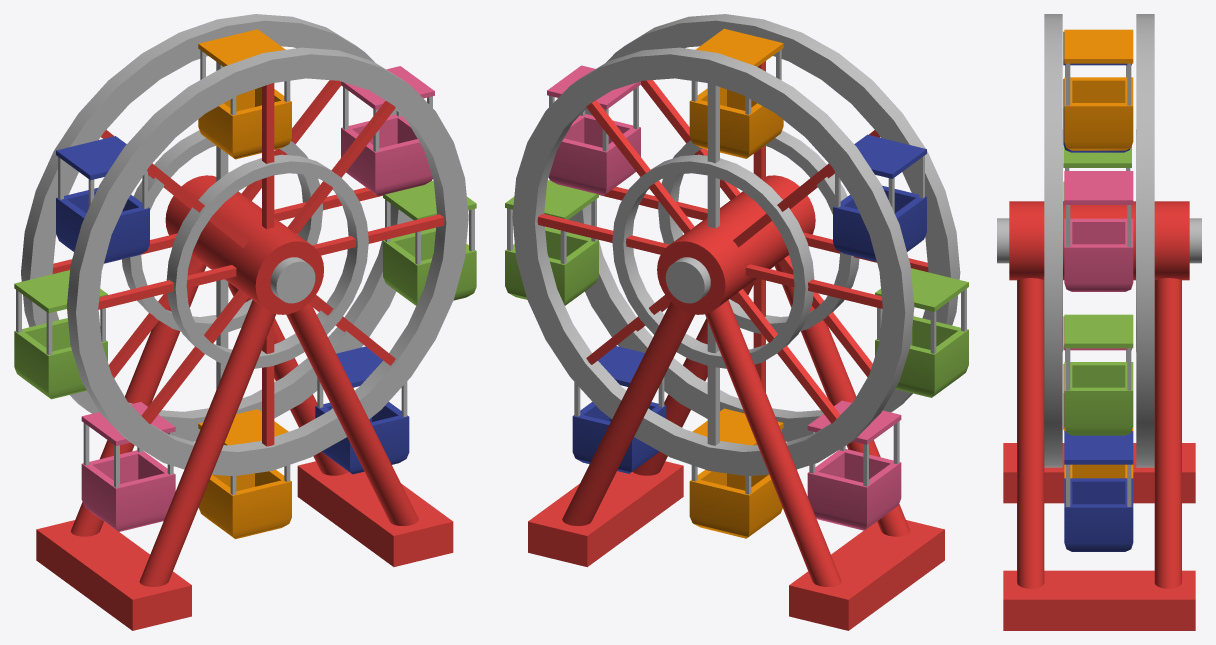
File: ferris_wheel.gltf
The picture shows the model from 3 angles, left to right: view 1: azimuth 30°, elevation 25°; view 2: azimuth 150°, elevation 25°; view 3: azimuth 270°, elevation 25°; orthographic projection.
Visible parts, largest first — view 1: Circle.2373; view 2: Circle.2373; view 3: Circle.2373.
Part boxes in pixels (<box>): Circle.2373: <box>14,14,476,630</box>; Circle.2373: <box>505,14,968,630</box>; Circle.2373: <box>997,14,1201,630</box>.
Size of the model in its own units: 1.68 by 1.94 by 0.6922.
Materials: 1 (1 with a texture image).
